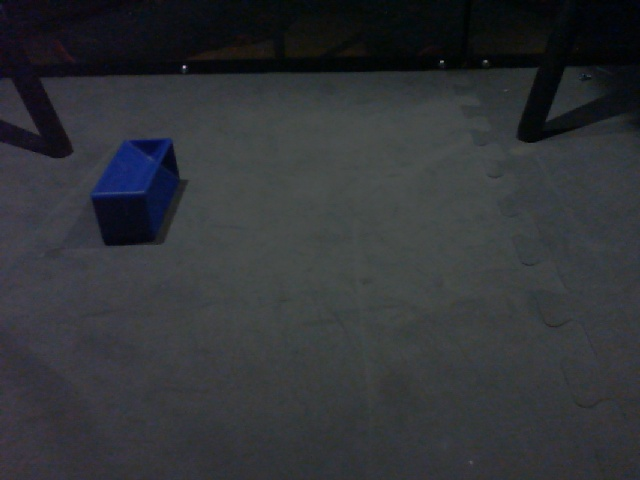BlueSample: (86, 137, 186, 245)
